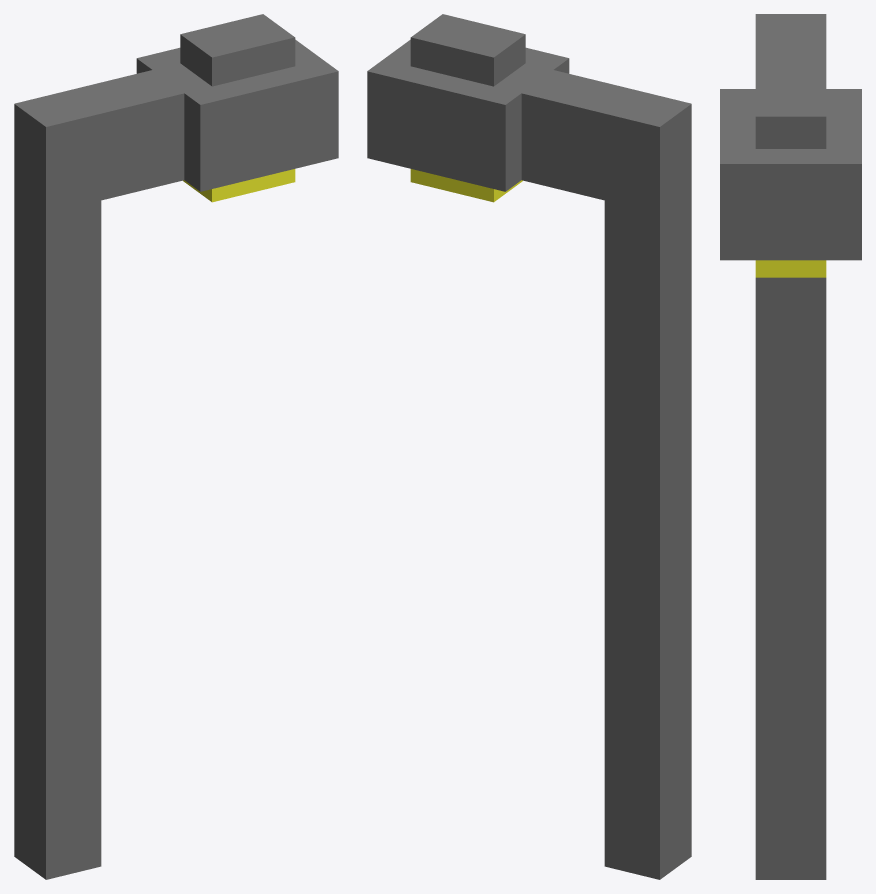
File: lampara1.1.fbx
3 views of the same model, side by side, from view 1: azimuth 30°, elevation 25°; view 2: azimuth 150°, elevation 25°; view 3: azimuth 270°, elevation 25° (orthographic). The views are drawn at different scales.
Visible parts, largest first — view 1: Cubo.024; view 2: Cubo.024; view 3: Cubo.024.
Boxes of the visible parts, left/top/right/bottom form: Cubo.024: left=14, top=14, right=338, bottom=879; Cubo.024: left=367, top=14, right=691, bottom=879; Cubo.024: left=720, top=14, right=861, bottom=879.
Bounding box in the file's own units: 1000 × 2700 × 400.
